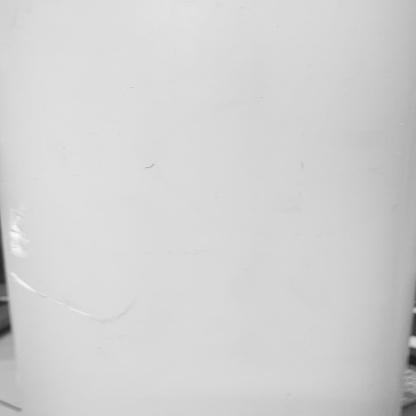sunshang: (1, 206, 84, 313)
